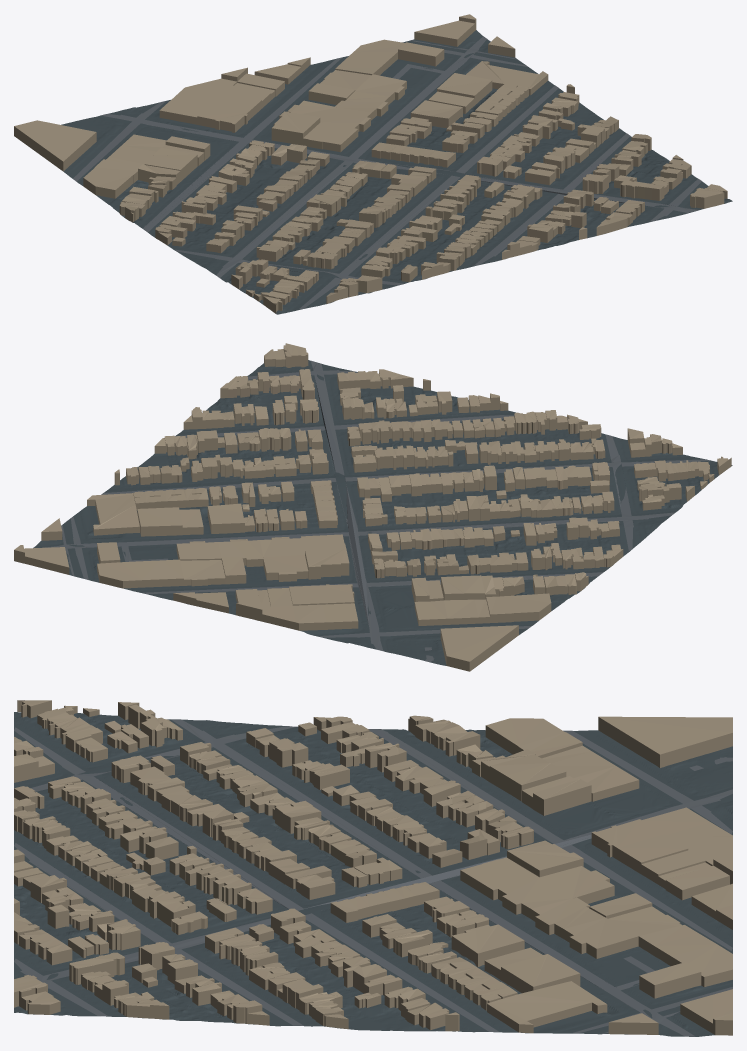
Rendered from epsg26910-1442-10874.lod0.glb.
3 renders of one model, top to bottom at view 1: azimuth 30°, elevation 25°; view 2: azimuth 150°, elevation 25°; view 3: azimuth 270°, elevation 25°, orthographic. The views are drawn at different scales.
Visible parts, largest first — view 1: epsg26910-1442-10874-lod0; view 2: epsg26910-1442-10874-lod0; view 3: epsg26910-1442-10874-lod0.
Part boxes in pixels (left/top/right/bottom): epsg26910-1442-10874-lod0: left=14, top=14, right=732, bottom=314; epsg26910-1442-10874-lod0: left=14, top=343, right=732, bottom=671; epsg26910-1442-10874-lod0: left=14, top=700, right=732, bottom=1036.
Bounding box in the file's own units: 384 × 23.37 × 384.
